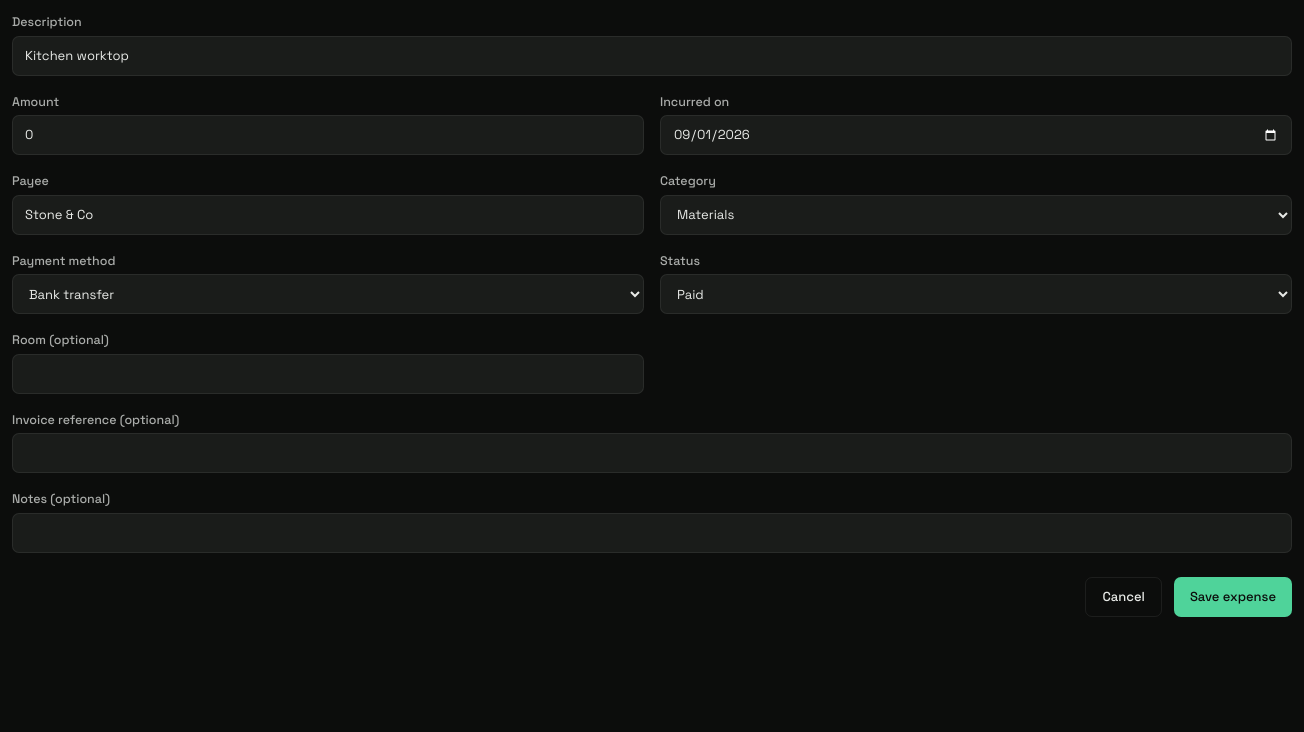
Test: ExpenseForm › blocks submission and shows the message when a field is invalid
This screenshot has width=1304, height=732.
What coordinates should you click on to do the following:
click the button "Save expense"
I would click on:
 (1233, 596)
Its box is x1=1174 y1=576 x2=1292 y2=616.
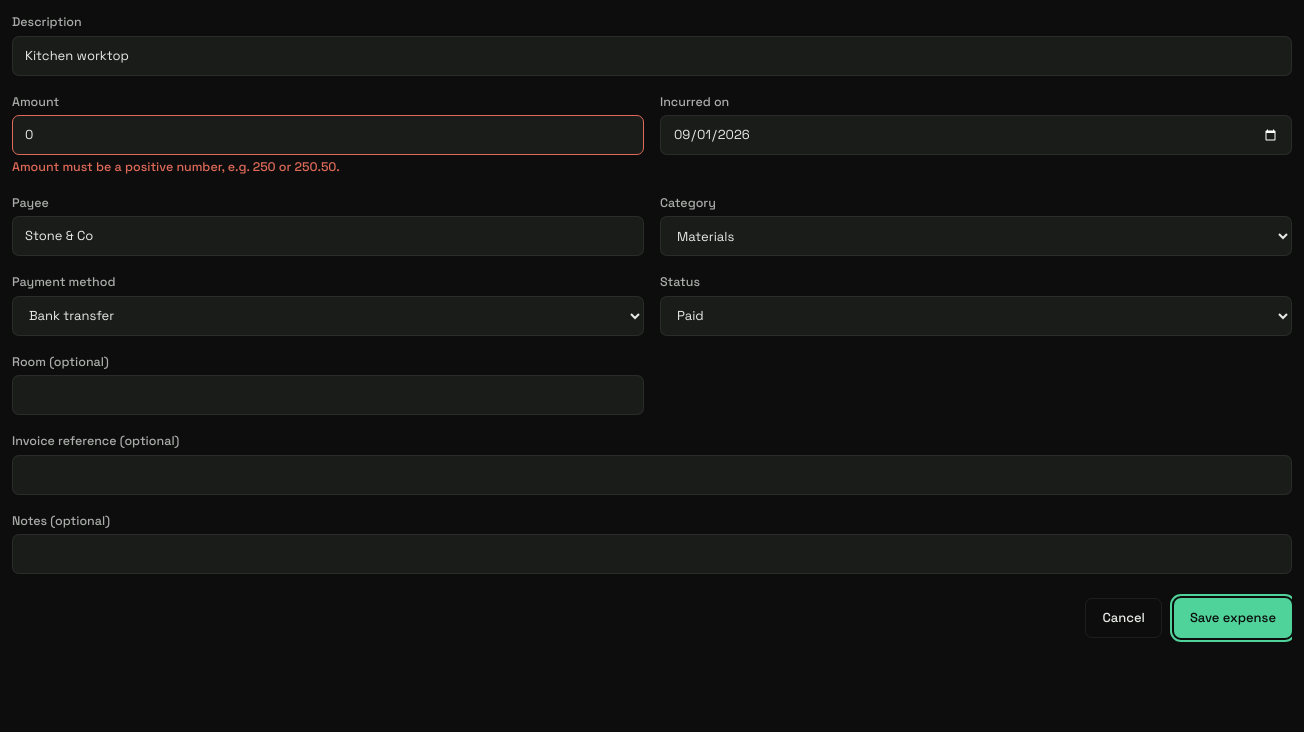
Expected: the text "Amount must be a positive number, e.g. 250 or 250.50." is shown, x1=12 y1=159 x2=340 y2=175
